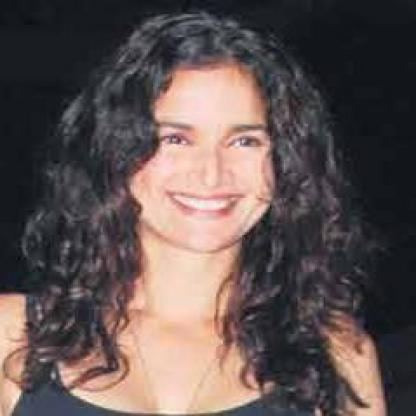long-hair: (2, 252, 383, 339)
